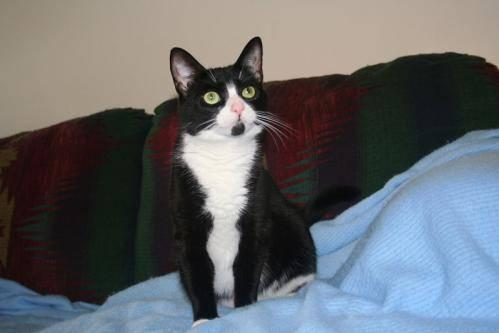cat: (170, 37, 316, 324)
